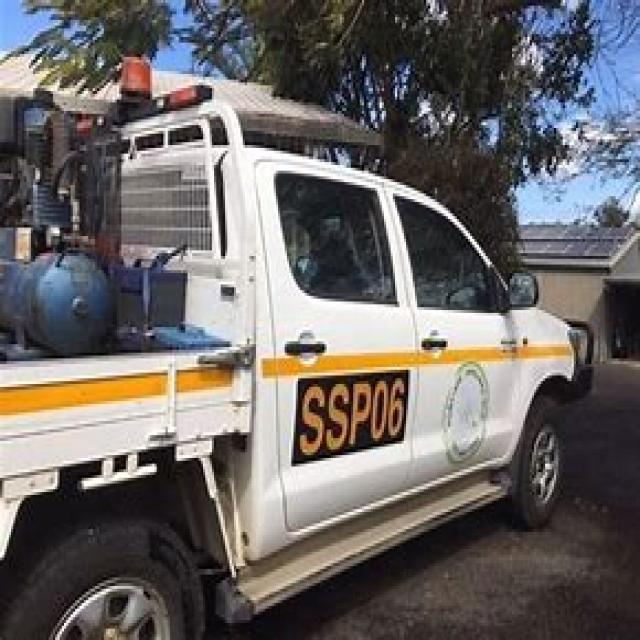light_vehicle: (2, 74, 616, 637)
